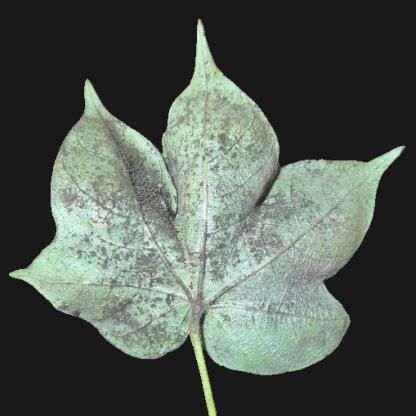curl_stage2: (233, 327, 292, 375)
sooty: (100, 112, 250, 258), (104, 227, 182, 301), (96, 284, 180, 344), (238, 269, 329, 322), (253, 196, 325, 260), (62, 122, 98, 222), (180, 276, 231, 334), (324, 205, 364, 249)
